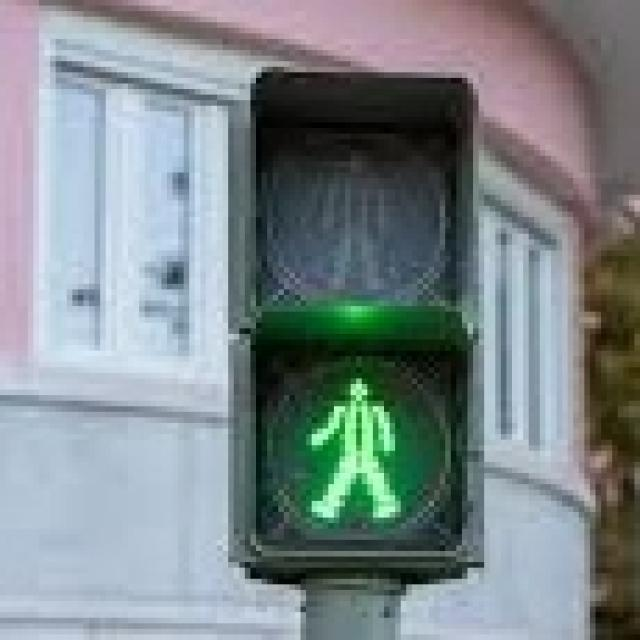geen-crossing: (278, 345, 418, 540)
